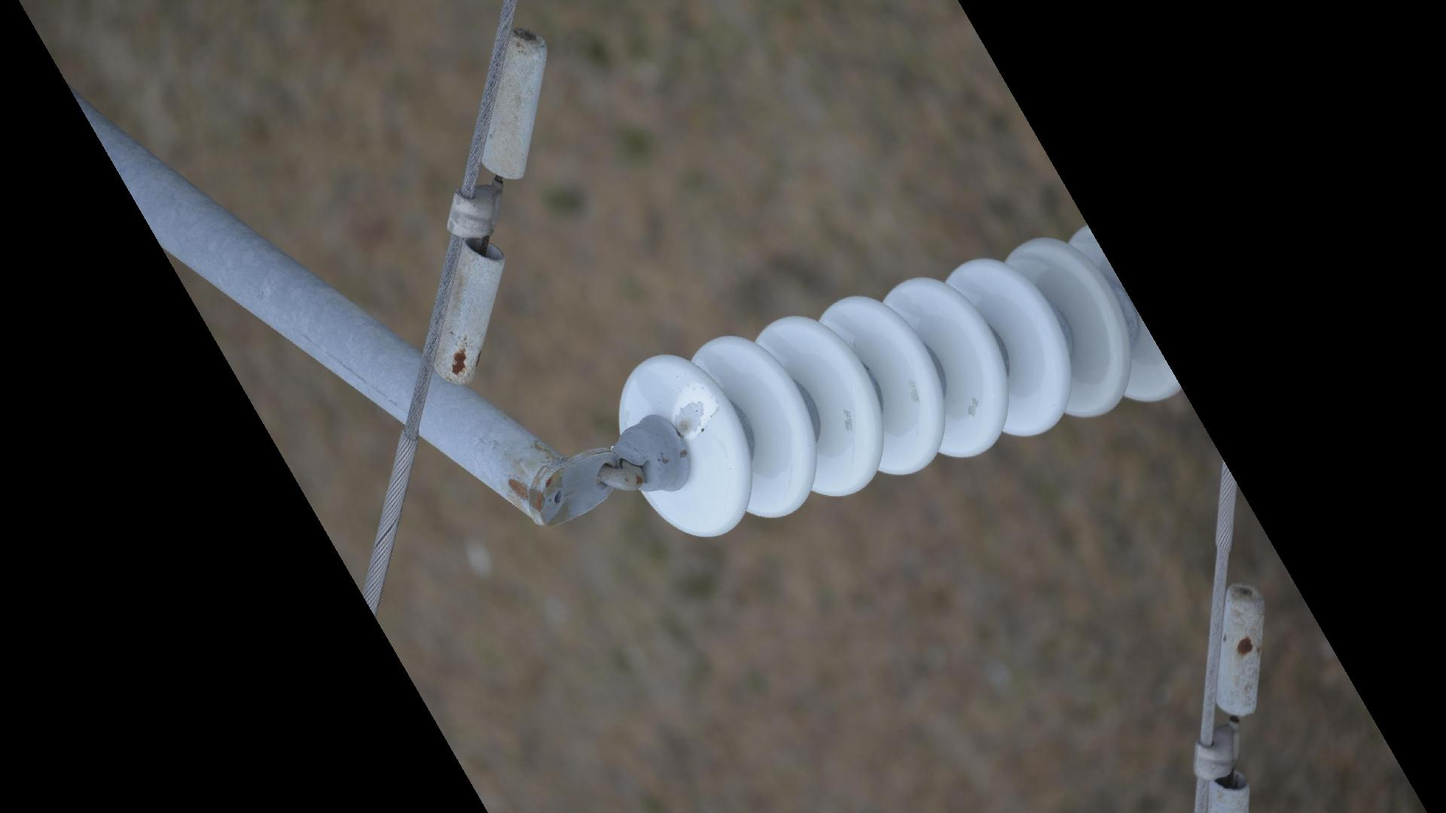insulator: (611, 222, 1184, 545)
insulator_flashover: (668, 379, 721, 441)
